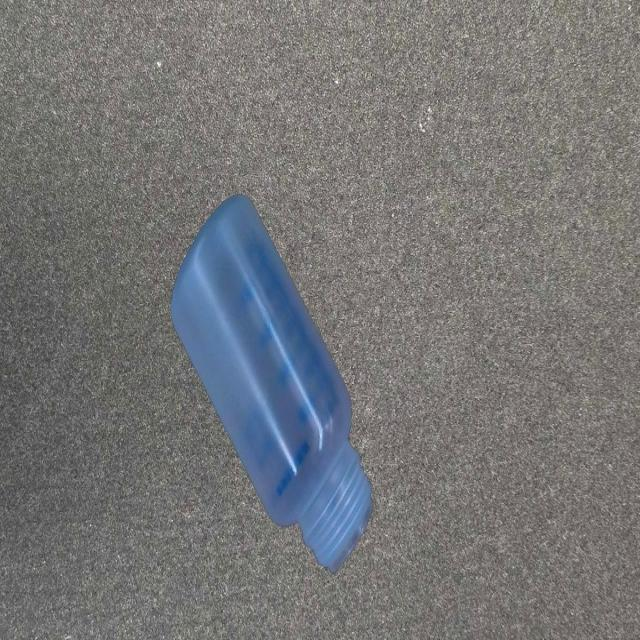bottle: (166, 188, 377, 582)
